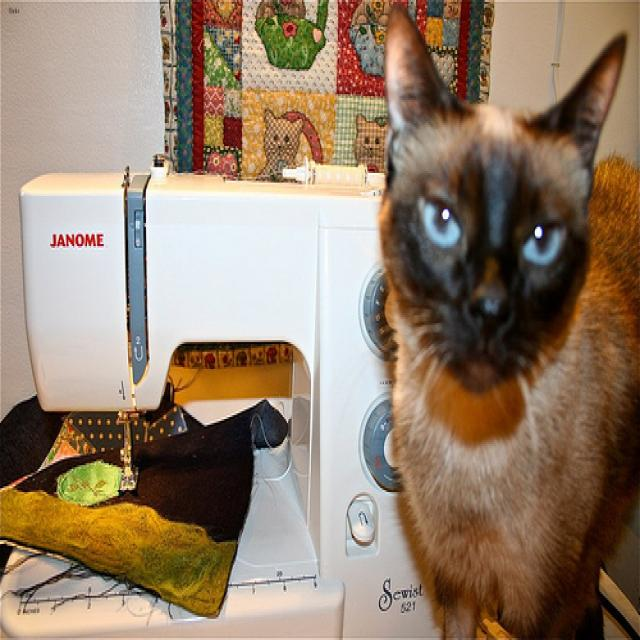cat: (382, 2, 624, 390)
